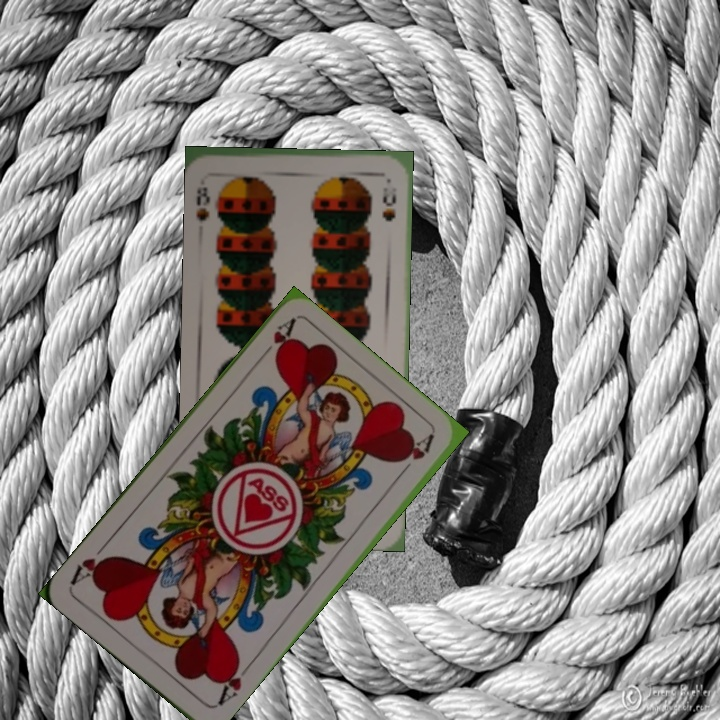HA: (212, 654, 254, 709), (252, 316, 298, 364)
S8: (191, 182, 213, 223)
